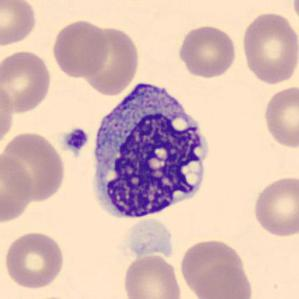Monocyte: (86, 73, 217, 226)
Platelets: (62, 126, 90, 154)
RBC: (1, 129, 67, 204), (78, 23, 142, 97), (239, 10, 298, 86), (178, 236, 246, 298), (1, 229, 66, 291), (50, 18, 110, 79), (0, 48, 53, 114), (176, 23, 238, 79), (251, 174, 298, 239), (120, 252, 184, 299), (0, 150, 36, 225), (261, 84, 298, 150), (121, 217, 177, 260), (192, 261, 254, 299), (0, 0, 39, 48), (0, 80, 16, 151)
